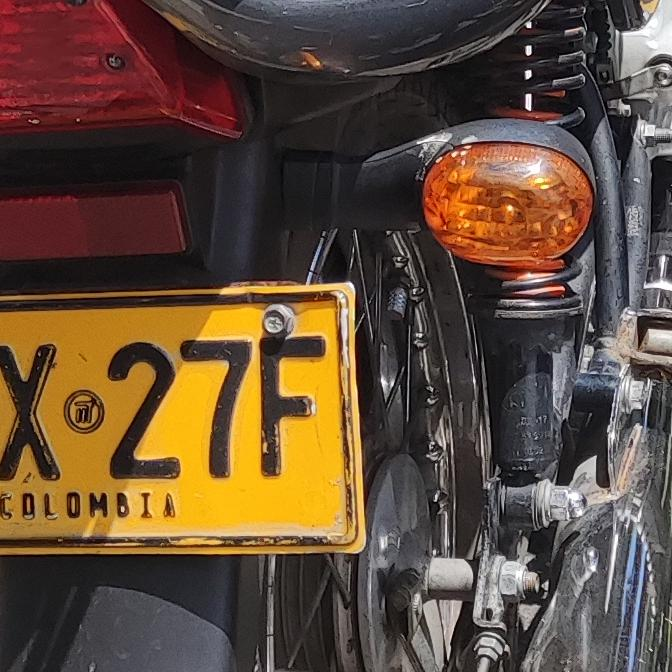plates: (0, 283, 376, 563)
